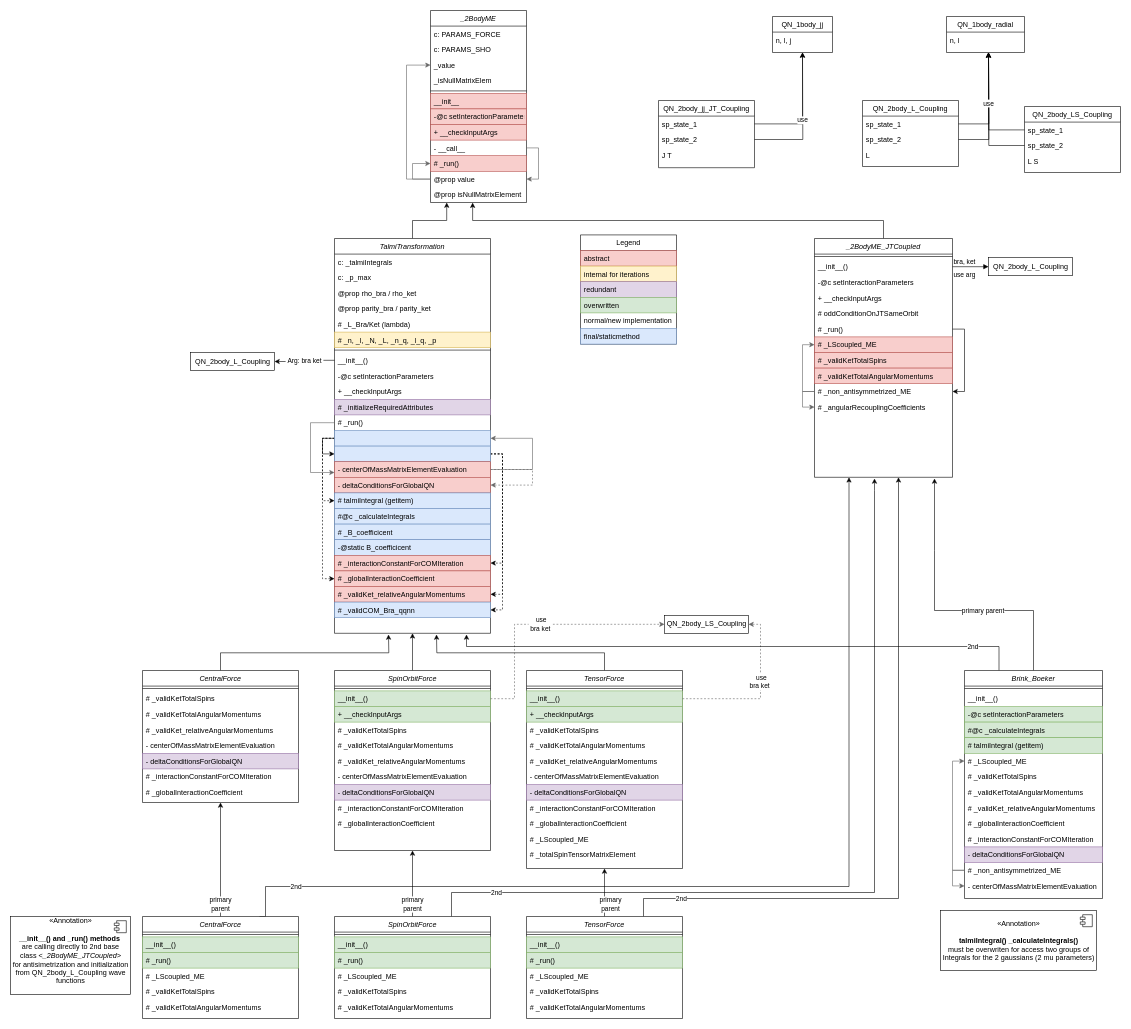
The diagram is 1131 pixels wide and 1029 high, and some of its shapes have lost their labels. Each missing label, with the centre of its shape:
"# _BrodyMoshinskyTransformation" belongs at (x=412, y=438).
"# _interactionSeries(the C[](nl1, nl2, LL' SS' p))" belongs at (x=412, y=454).
